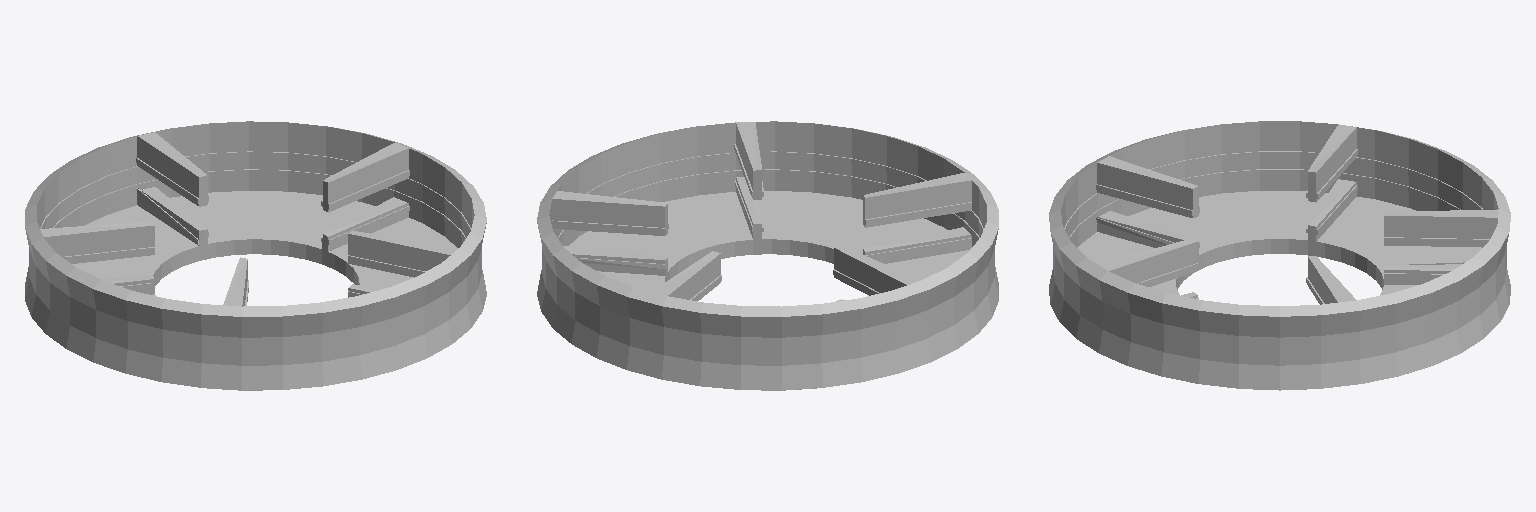
The model's file is SpaceStation6.obj.
The picture shows the model from 3 angles: view 1: azimuth 30°, elevation 25°; view 2: azimuth 150°, elevation 25°; view 3: azimuth 270°, elevation 25°; orthographic projection.
Parts seen in each view (by area): view 1: SpaceStation2:pTorus1; view 2: SpaceStation2:pTorus1; view 3: SpaceStation2:pTorus1.
Part boxes in pixels (x1,y1,x2,y2): SpaceStation2:pTorus1: (25,121,486,390); SpaceStation2:pTorus1: (537,121,998,390); SpaceStation2:pTorus1: (1049,121,1510,390).
Size of the model in its own units: 39.52 by 7.95 by 39.56.